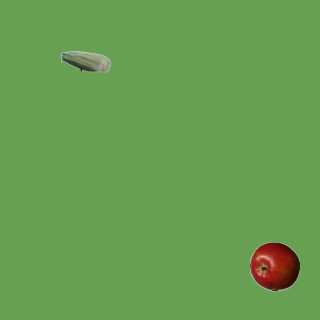Apple Braeburn: (249, 241, 299, 291)
Corn Husk: (60, 36, 110, 86)
